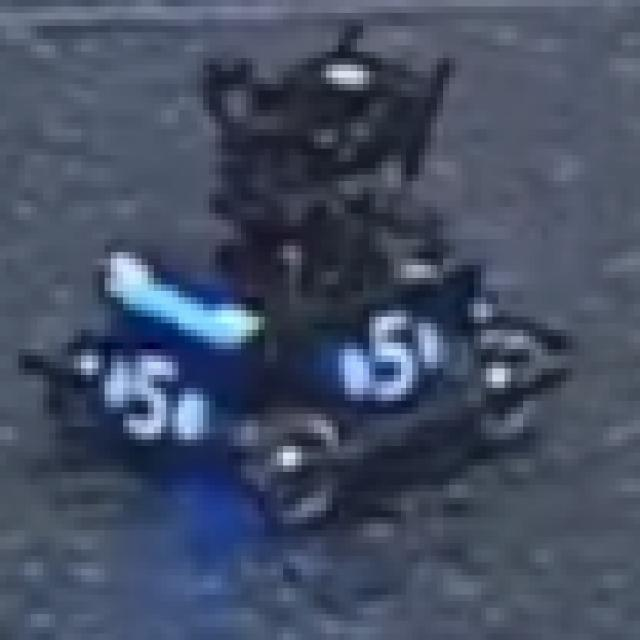B5: (111, 342, 203, 452), (339, 304, 443, 401)
